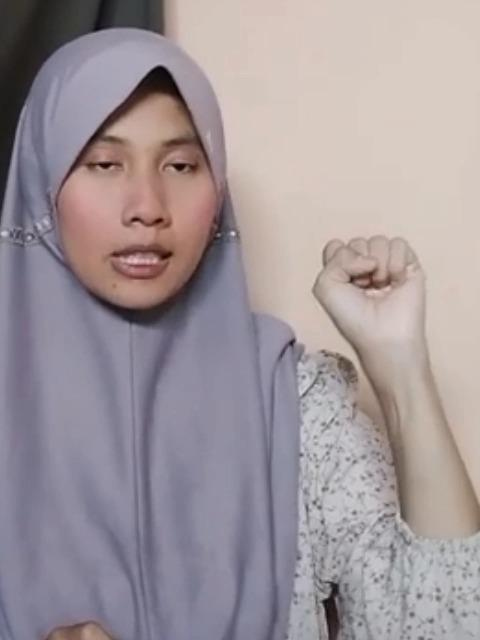S: (304, 235, 442, 348)
